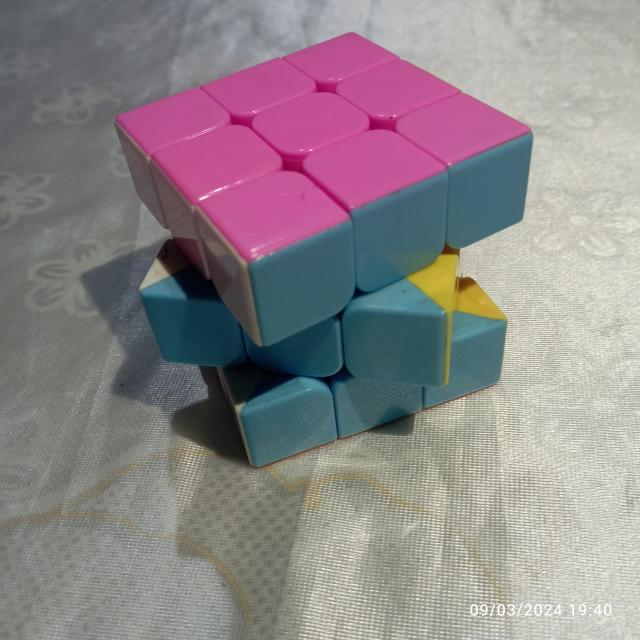Rub: (111, 25, 539, 472)
